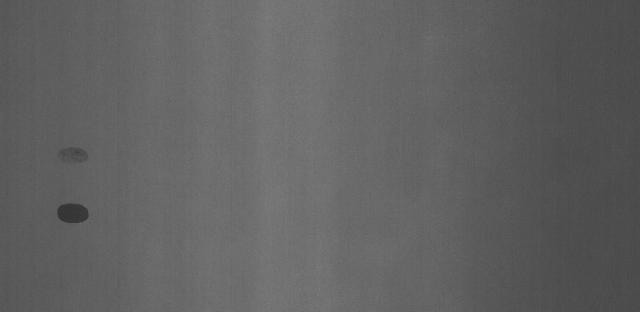oil_spot: (54, 202, 93, 227), (57, 145, 88, 167)
